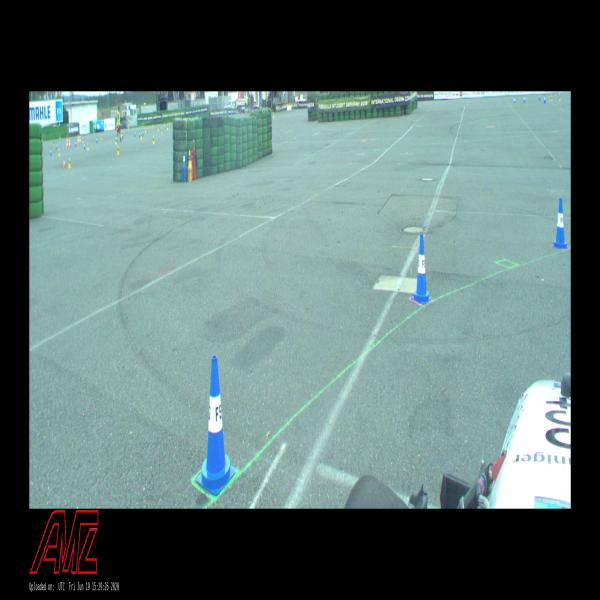blue_cone: (196, 354, 235, 496), (411, 236, 432, 306), (551, 198, 569, 250), (182, 150, 187, 169), (523, 95, 526, 103), (513, 96, 516, 103), (74, 139, 76, 148), (84, 142, 86, 150), (138, 130, 140, 138), (538, 94, 540, 101), (50, 148, 52, 154), (96, 138, 98, 144), (544, 95, 545, 103), (56, 142, 57, 150), (134, 131, 135, 138), (142, 130, 143, 136)
large_orange_cone: (66, 136, 68, 148), (68, 137, 70, 147), (79, 134, 81, 144), (77, 134, 79, 144)
orange_cone: (63, 158, 65, 169)
yellow_cone: (187, 150, 192, 170), (68, 158, 71, 169), (87, 142, 89, 150), (117, 146, 119, 154), (559, 93, 561, 101), (115, 137, 117, 145), (58, 149, 60, 156), (140, 132, 142, 139), (548, 95, 550, 102), (161, 128, 163, 134), (551, 95, 553, 101), (82, 138, 84, 144), (59, 134, 61, 140), (153, 136, 154, 144), (167, 123, 168, 131), (101, 134, 102, 141), (158, 125, 159, 132), (145, 127, 146, 134), (54, 141, 55, 148)
